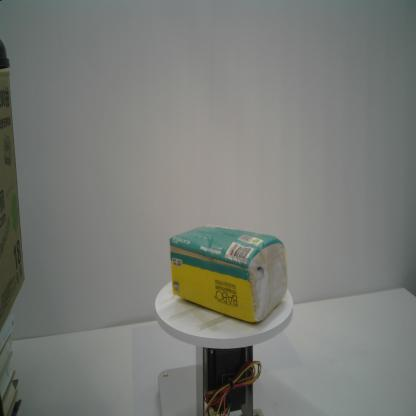Tissue: (169, 225, 288, 324)
